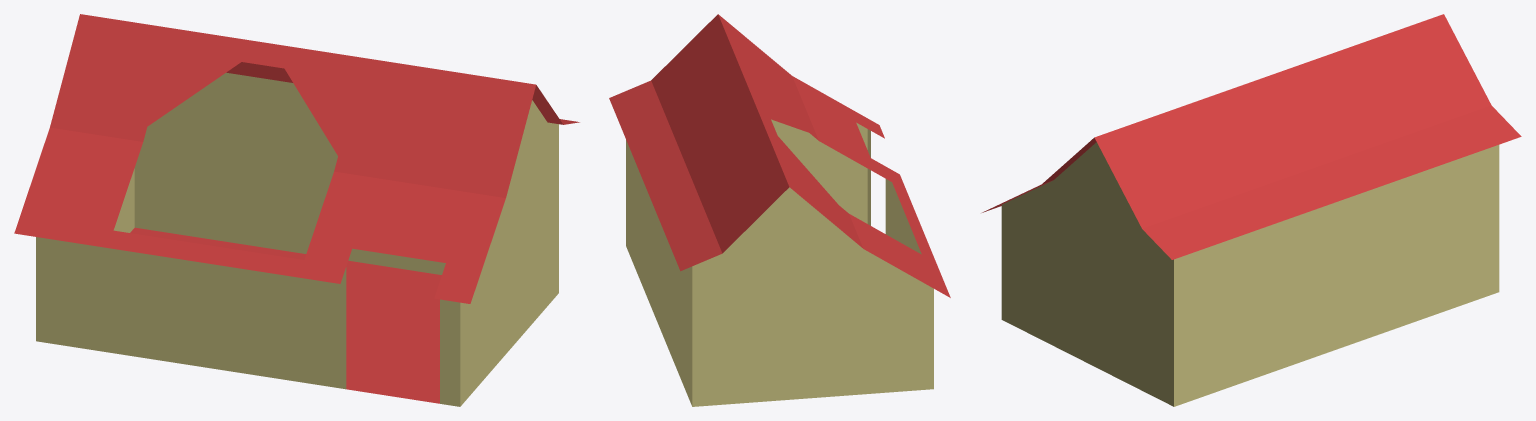
The picture shows the model from 3 angles, left to right: view 1: azimuth 30°, elevation 25°; view 2: azimuth 150°, elevation 25°; view 3: azimuth 270°, elevation 25°; orthographic projection. The views are drawn at different scales.
Size of the model in its own units: 24.52 by 25.44 by 12.41.
